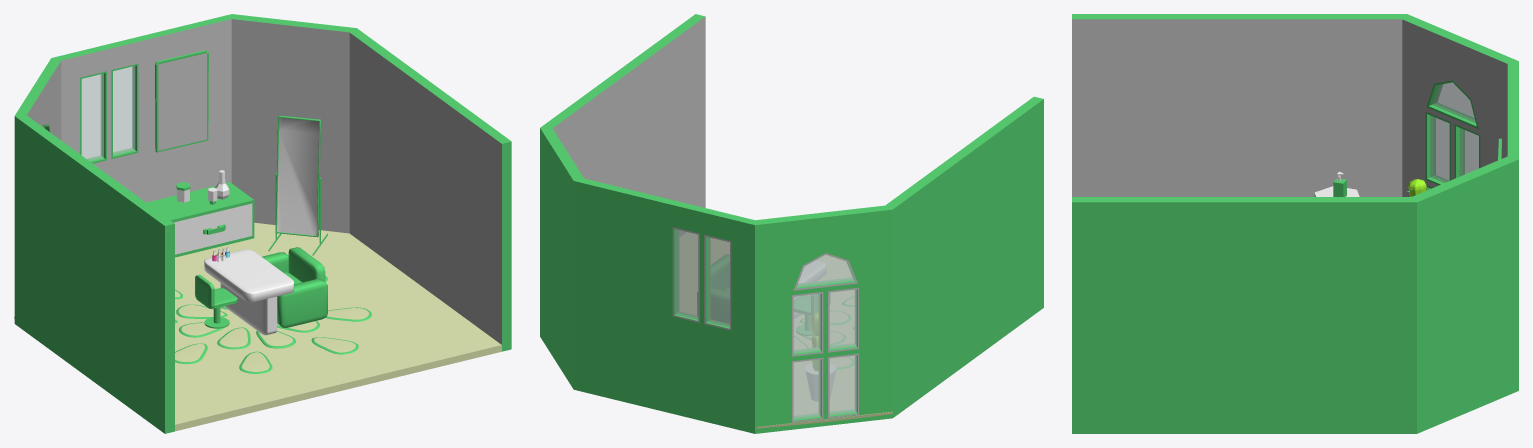
The model's file is y_oda.obj.
3 renders of one model, left to right at view 1: azimuth 30°, elevation 25°; view 2: azimuth 150°, elevation 25°; view 3: azimuth 270°, elevation 25°, orthographic. The views are drawn at different scales.
Parts seen in each view (by area): view 1: Box009.013_w_zümrüğt, Box009.013_m_yeşil, Box009.013_zemin_yeşil, Box009.013_m_white, Box009.013_wall_pembe, Box009.013_tablo_yeşil, Box009.013_m_cam, Box009.013_m_beyaz; view 2: Box009.013_m_yeşil, Box009.013_w_zümrüğt, Box009.013_m_cam, Box009.013_zemin_yeşil, Box009.013_m_beyaz; view 3: Box009.013_m_yeşil, Box009.013_w_zümrüğt, Box009.013_m_cam.
Boxes of the visible parts, box(x1,y1,x2,y2) form: Box009.013_w_zümrüğt: box(27, 19, 501, 344); Box009.013_m_yeşil: box(14, 14, 511, 433); Box009.013_zemin_yeşil: box(14, 222, 501, 431); Box009.013_m_white: box(176, 170, 293, 335); Box009.013_wall_pembe: box(277, 117, 319, 235); Box009.013_tablo_yeşil: box(158, 53, 206, 150); Box009.013_m_cam: box(43, 66, 135, 160); Box009.013_m_beyaz: box(174, 203, 252, 261); Box009.013_m_yeşil: box(540, 14, 1043, 433); Box009.013_w_zümrüğt: box(552, 16, 858, 422); Box009.013_m_cam: box(675, 229, 856, 419); Box009.013_zemin_yeşil: box(679, 232, 892, 428); Box009.013_m_beyaz: box(805, 363, 835, 401); Box009.013_m_yeşil: box(1072, 14, 1518, 433); Box009.013_w_zümrüğt: box(1072, 19, 1507, 196); Box009.013_m_cam: box(1430, 82, 1478, 188).
Size of the model in its own units: 68.08 by 38.99 by 68.21.
